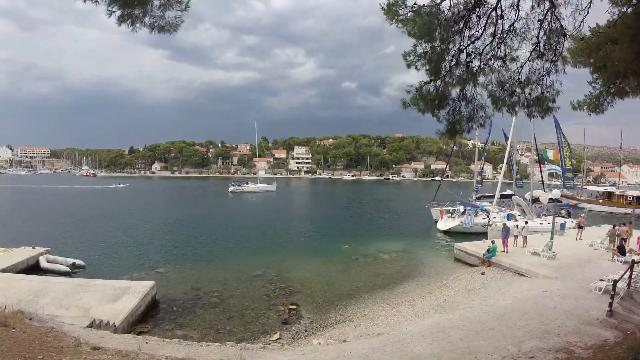Sailboat: (223, 178, 281, 197)
speedboat: (106, 174, 132, 190)
